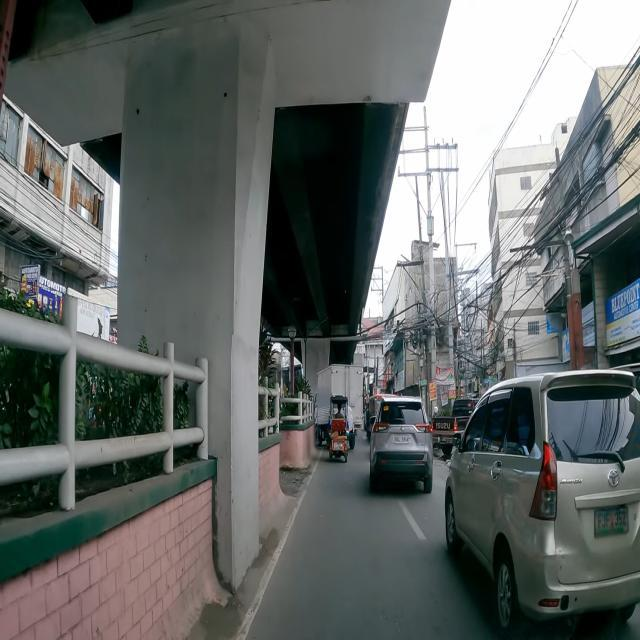car: (445, 369, 640, 633), (370, 395, 432, 493), (432, 396, 478, 460)
tricycle: (327, 395, 349, 462)
truck: (314, 365, 362, 448)
